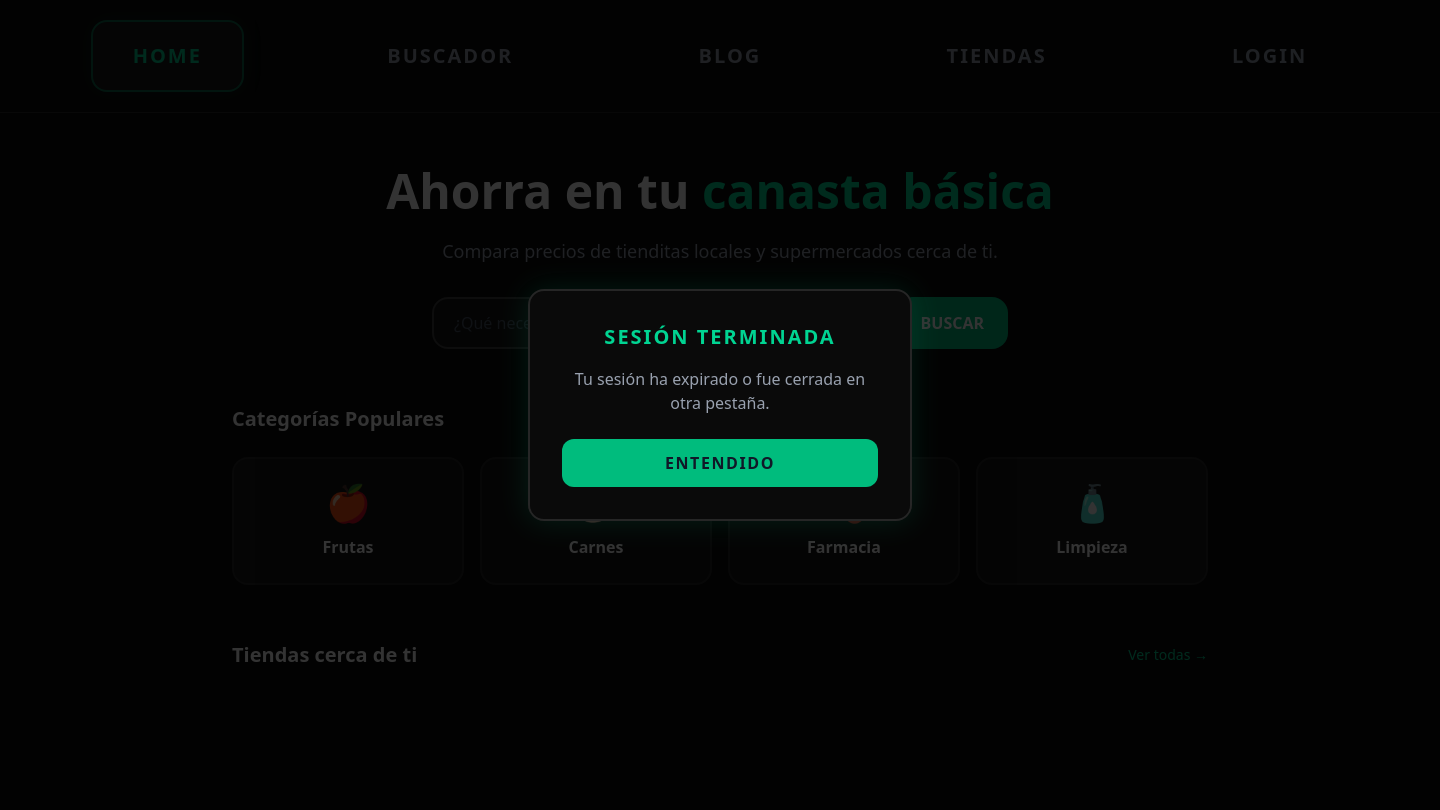
Test: Sesión - Multipestaña, logout y reconexión › el modal de sesión terminada se cierra al hacer click en ENTENDIDO
This screenshot has width=1440, height=810.
Click the button "ENTENDIDO" at (720, 463), box [562,439,878,487]
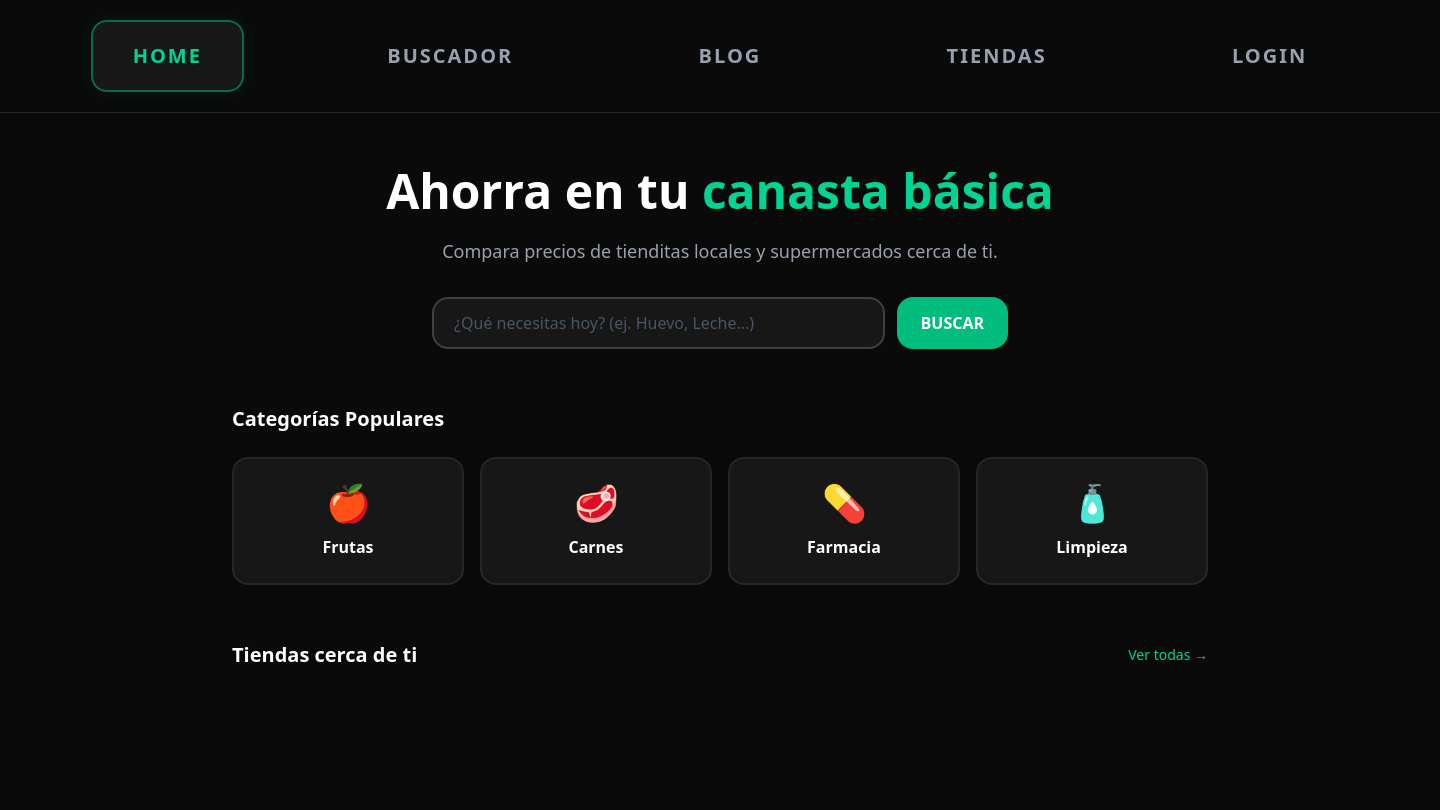
Result: the heading "SESIÓN TERMINADA" is gone
